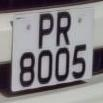0: (36, 46, 56, 89), (54, 43, 72, 86)
5: (71, 41, 88, 85)
8: (18, 48, 36, 91)
P: (35, 10, 58, 51)
R: (55, 8, 74, 50)
